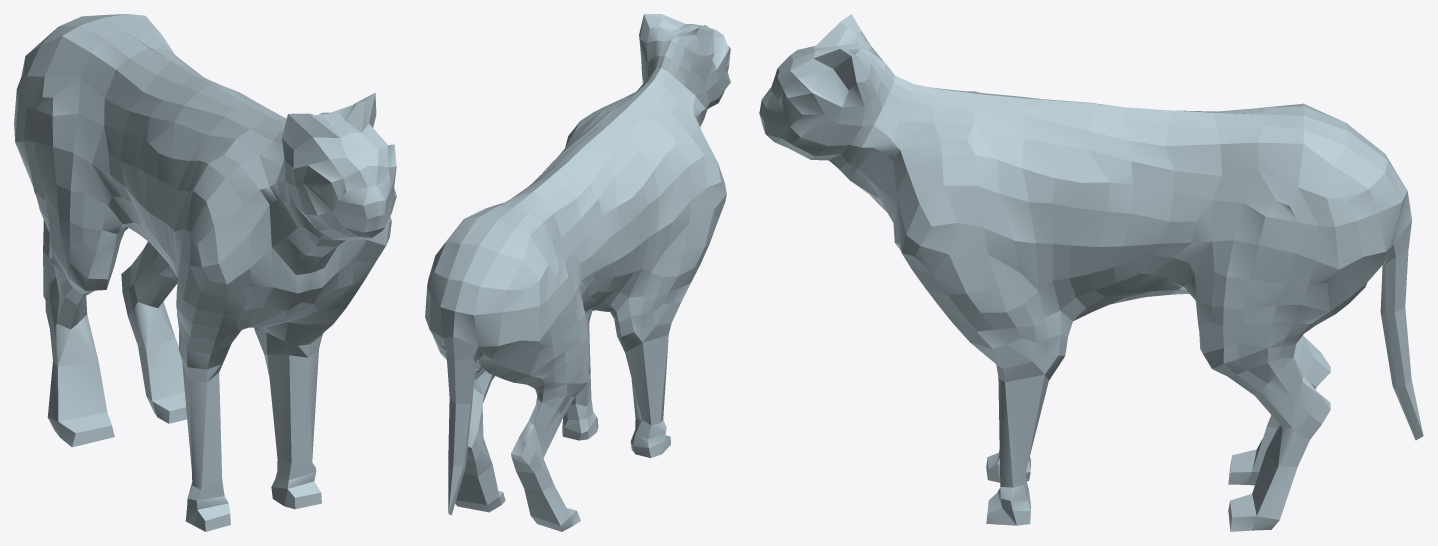
Rendered from registered-recovery-vectors.glb.
The picture shows the model from 3 angles, left to right: view 1: azimuth 30°, elevation 25°; view 2: azimuth 150°, elevation 25°; view 3: azimuth 270°, elevation 25°; orthographic projection. The views are drawn at different scales.
Visible parts, largest first — view 1: REGISTERED RECOVERY RESIDUALS — MAGENTA OUTWARD / CYAN INWAR; view 2: REGISTERED RECOVERY RESIDUALS — MAGENTA OUTWARD / CYAN INWAR; view 3: REGISTERED RECOVERY RESIDUALS — MAGENTA OUTWARD / CYAN INWAR.
Boxes of the visible parts, x1=… form: REGISTERED RECOVERY RESIDUALS — MAGENTA OUTWARD / CYAN INWAR: x1=14, y1=14, x2=396, y2=531; REGISTERED RECOVERY RESIDUALS — MAGENTA OUTWARD / CYAN INWAR: x1=425, y1=14, x2=730, y2=531; REGISTERED RECOVERY RESIDUALS — MAGENTA OUTWARD / CYAN INWAR: x1=759, y1=14, x2=1423, y2=531.
Size of the model in its own units: 20.32 by 47.97 by 62.11.
